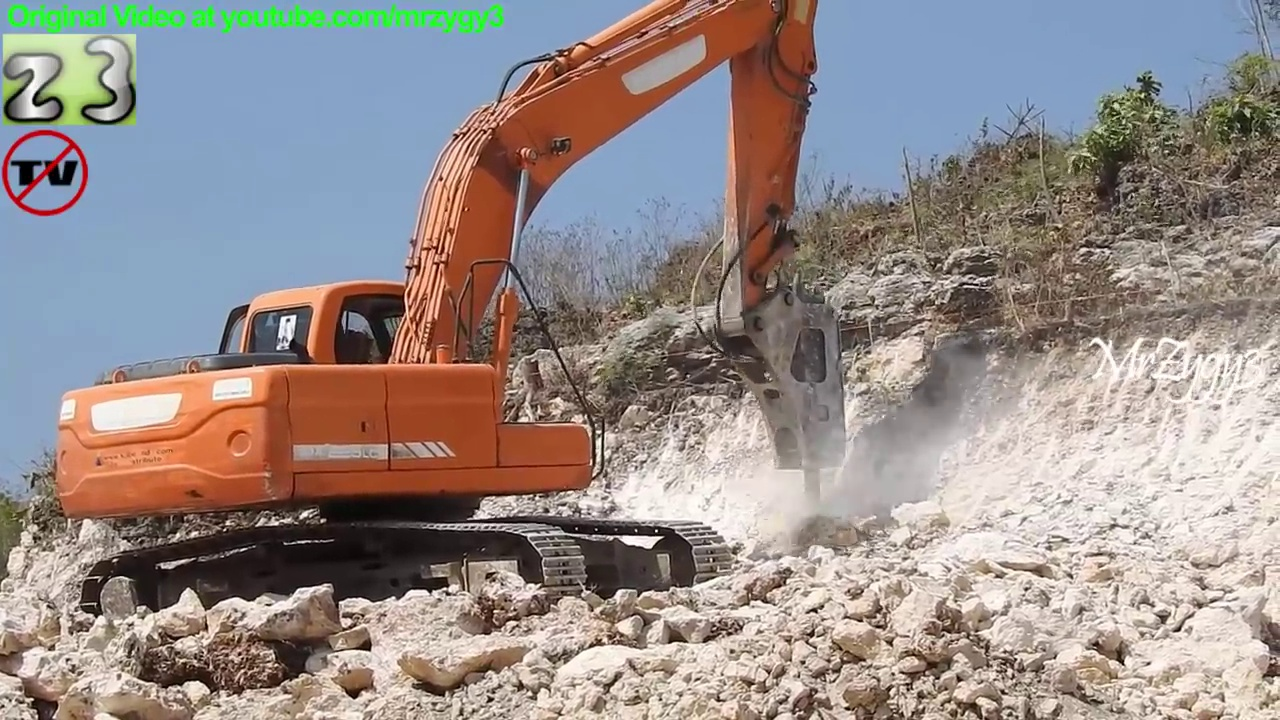excavator: (48, 1, 865, 641)
